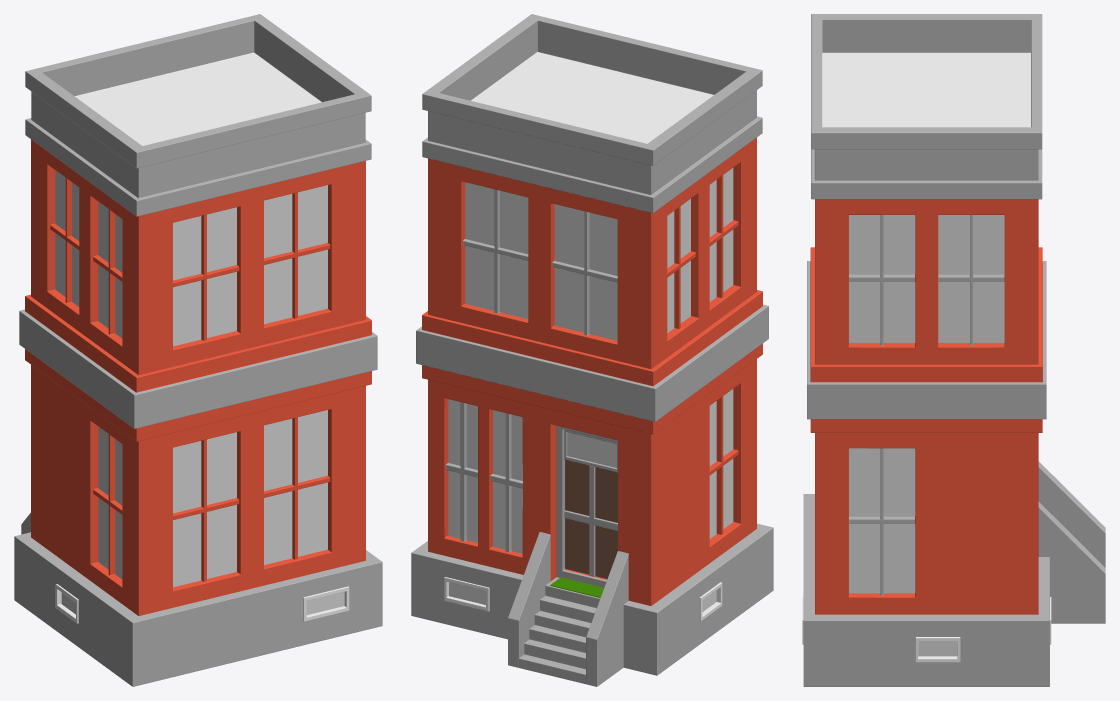
Rendered from mansion_1.2.1.fbx.
The picture shows the model from 3 angles, left to right: view 1: azimuth 30°, elevation 25°; view 2: azimuth 150°, elevation 25°; view 3: azimuth 270°, elevation 25°; orthographic projection. The views are drawn at different scales.
Parts seen in each view (by area): view 1: Building_03; view 2: Building_03; view 3: Building_03.
Part boxes in pixels (x1,y1,x2,y2): Building_03: (14,14,382,686); Building_03: (411,14,773,686); Building_03: (802,14,1105,686).
Bounding box in the file's own units: 80 × 160 × 80.
